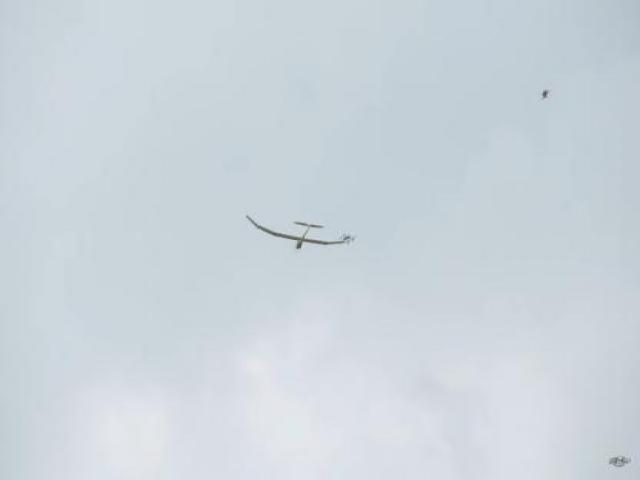uav: (245, 207, 357, 253)
